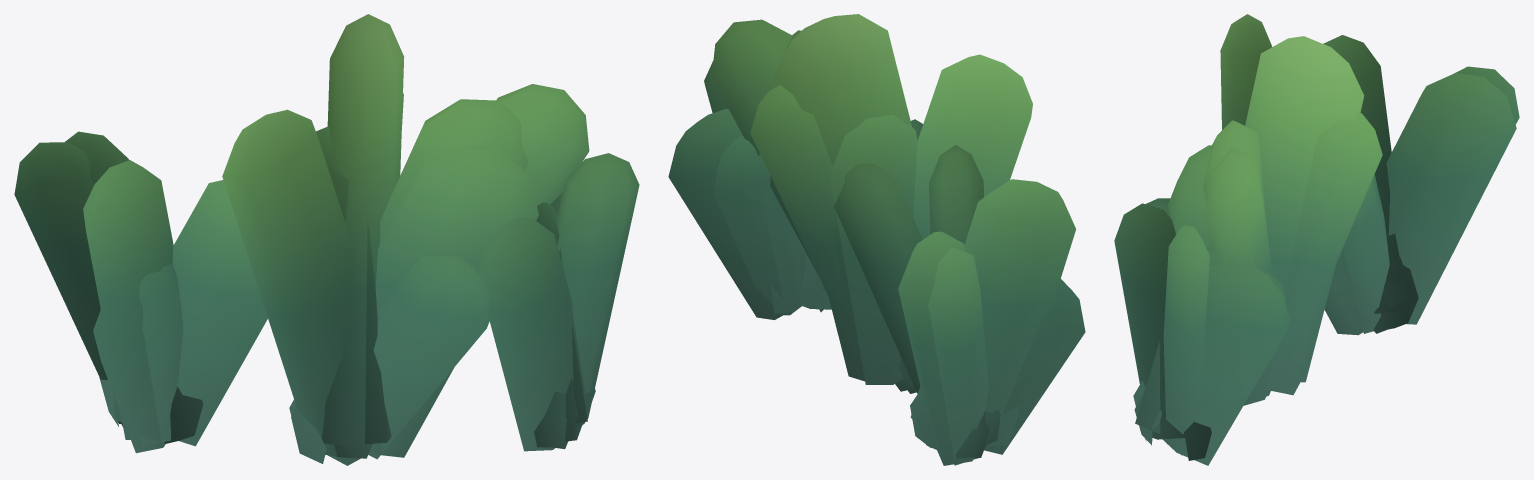
The model's file is shrub_c.glb.
3 renders of one model, left to right at view 1: azimuth 30°, elevation 25°; view 2: azimuth 150°, elevation 25°; view 3: azimuth 270°, elevation 25°, orthographic. The views are drawn at different scales.
Parts seen in each view (by area): view 1: shrub_c; view 2: shrub_c; view 3: shrub_c.
Part boxes in pixels (x1,y1,x2,y2): shrub_c: (14,14,639,465); shrub_c: (668,14,1085,465); shrub_c: (1114,14,1519,465).
Bounding box in the file's own units: 0.8276 × 0.6728 × 0.6712.
Materials: 1 (1 with a texture image).
